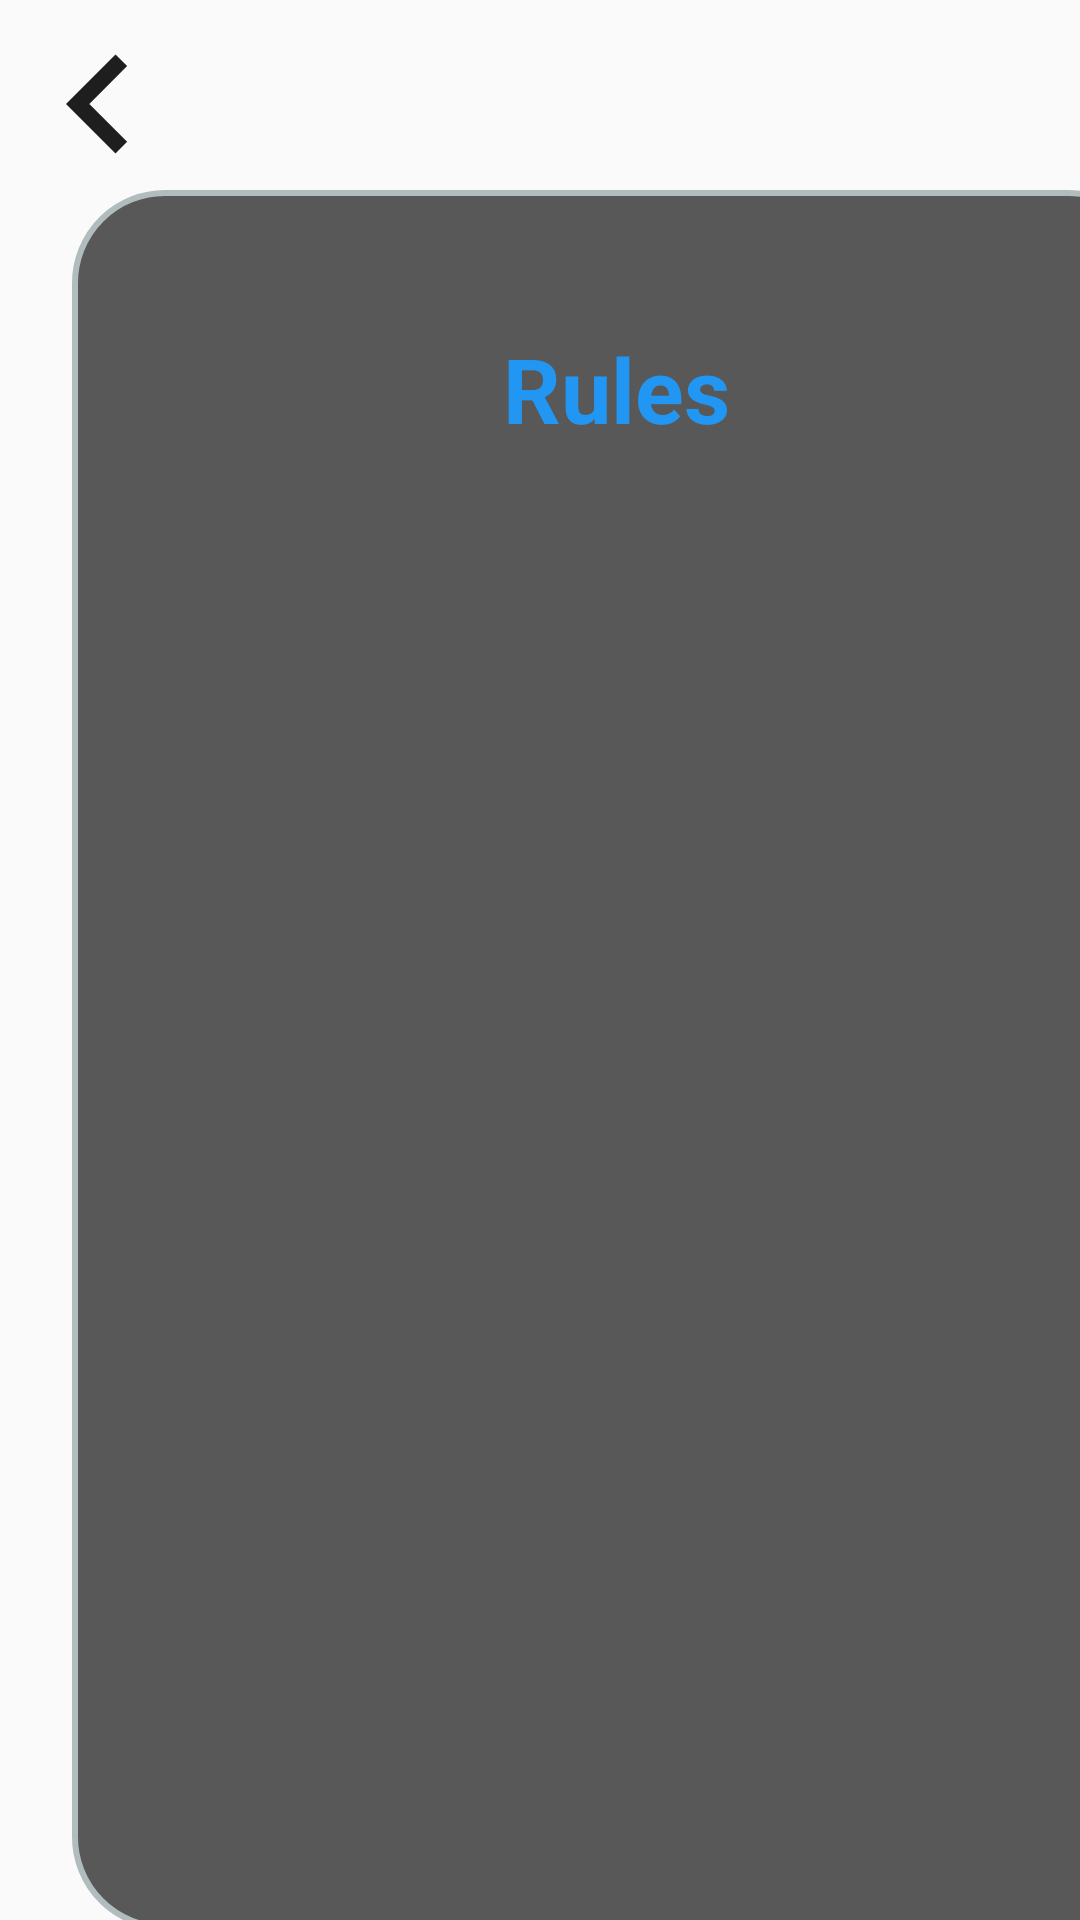

Icons on this 1080 x 1920 Android screen, each with its box as (x1, y1, x2, y2):
keyboard arrow left trueblack: (66, 54, 127, 154)
